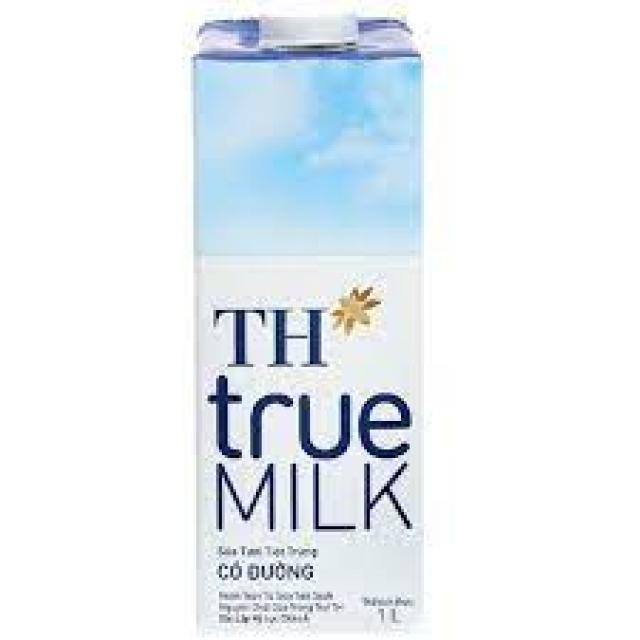non_white_jug: (191, 10, 429, 562)
